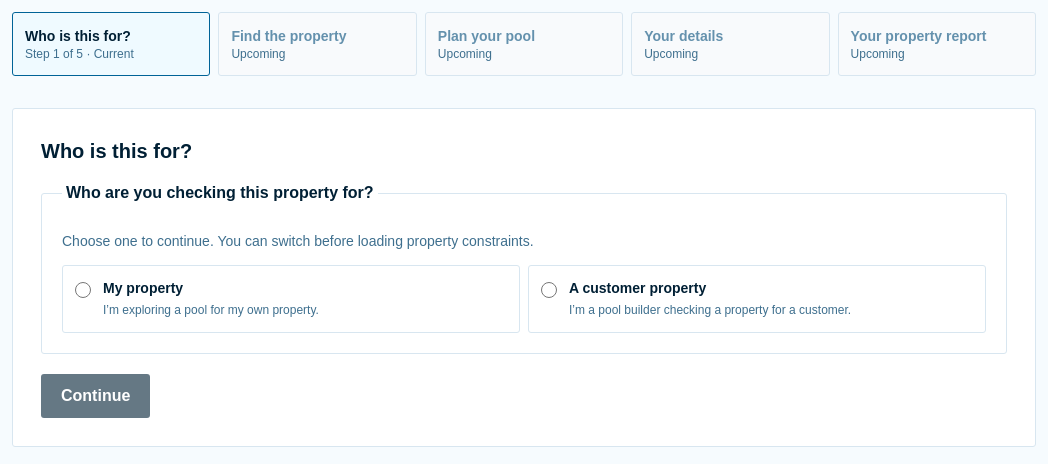
Scenario: PropertyCheckJourney › announces autocomplete provider failure
The image size is (1048, 464).
Click the radio button labelled "My property" at point(83, 290), box [75,282,91,298]
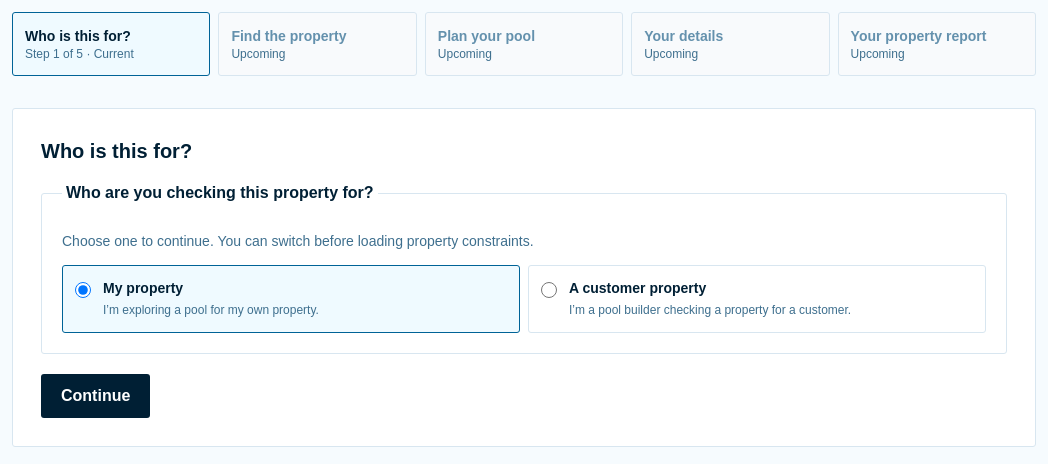
Click the button "Continue" at point(96, 396), box [41,374,150,418]
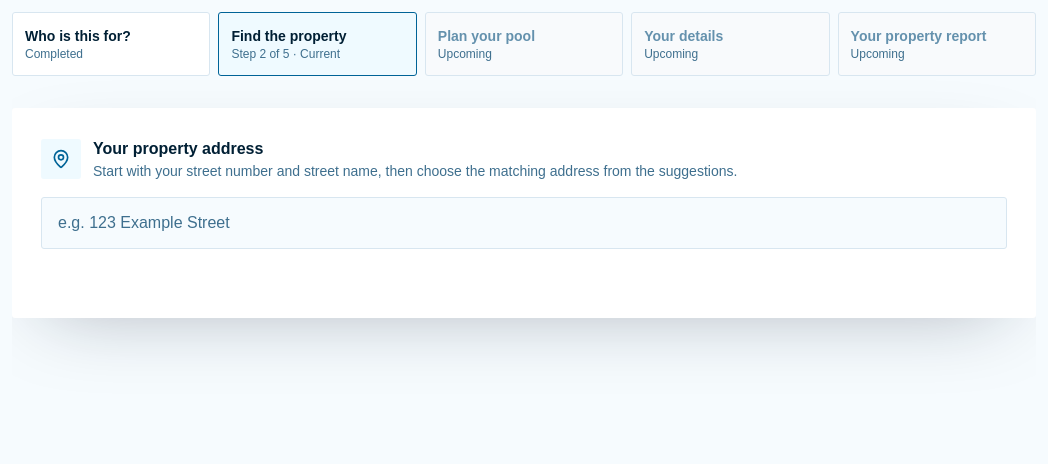
Type "42A Bahari" into the field named "Auckland property address" at point(524, 223), box [41,197,1007,249]
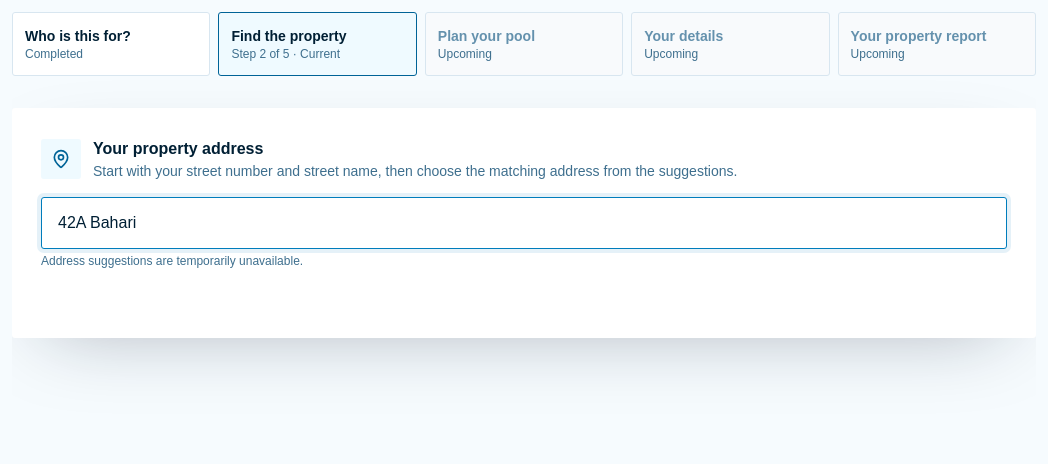
Check: the text "Address suggestions are temporarily unavailable." is shown, box [41,254,303,268]
